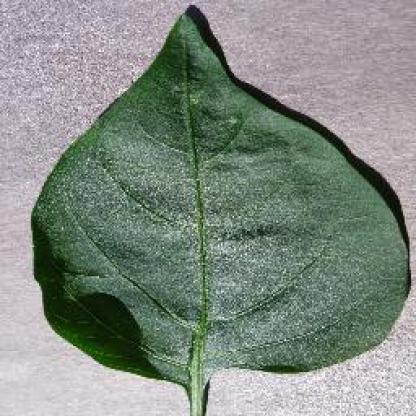bad leaf: (36, 12, 404, 415)
